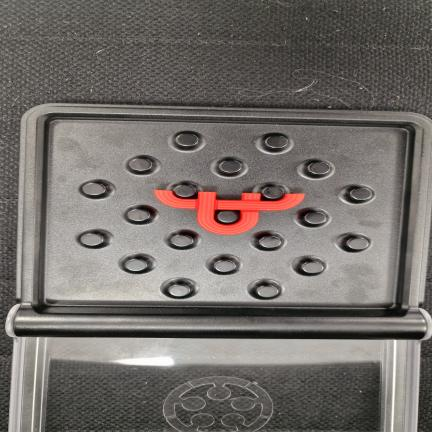E_Red: (155, 190, 304, 234)
board: (15, 104, 432, 339)
hinge: (10, 306, 428, 339)
pin: (175, 133, 199, 148), (129, 158, 153, 172), (82, 182, 106, 196), (170, 234, 194, 248), (80, 233, 104, 247), (213, 259, 237, 273), (265, 135, 288, 149), (173, 184, 196, 198), (346, 237, 369, 251), (258, 235, 281, 249), (303, 212, 327, 225), (124, 259, 148, 272), (167, 284, 191, 297), (308, 162, 330, 176), (262, 186, 284, 200), (350, 187, 372, 201), (219, 160, 242, 173), (127, 209, 150, 222), (256, 285, 279, 298), (301, 261, 323, 274), (216, 211, 239, 223)
